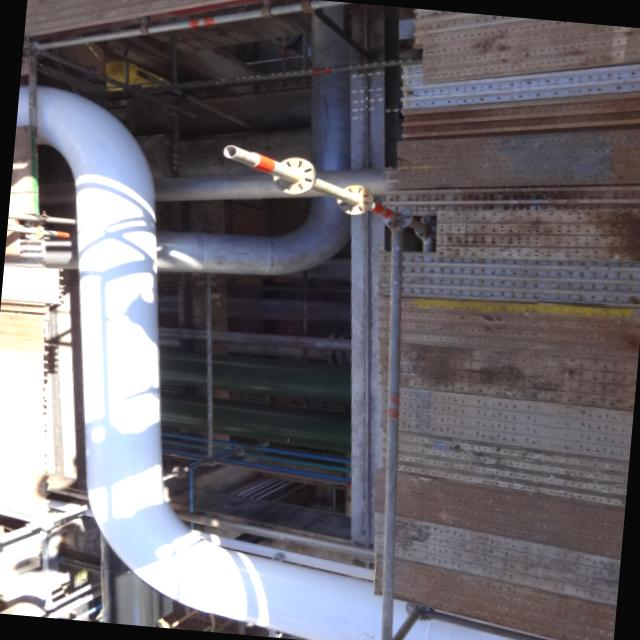gas: (15, 85, 562, 640), (166, 2, 350, 276)
